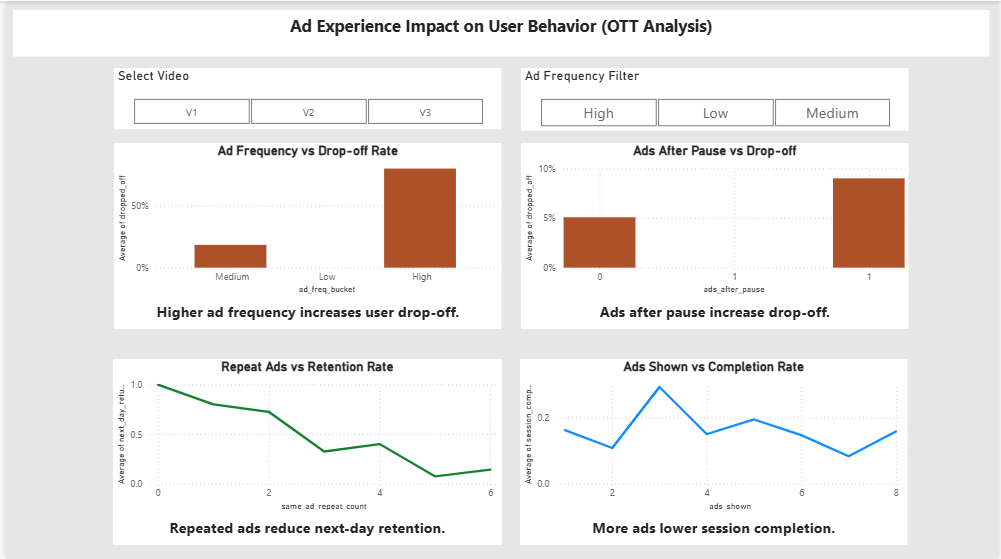

The page's visual inventory and layout, read from the dashboard file:
{"tool":"powerbi","page":{"name":"Page 1","canvas":[1280,720],"ordinal":0},"visuals":[{"type":"clusteredColumnChart","title":"Ad Frequency vs Drop-off Rate","fields":{"Category":["analysis.ad_freq_bucket"],"Y":["Avg(analysis.dropped_off)"]},"box":[138.9,182.8,500.3,199.8],"z":0},{"type":"lineChart","title":"Repeat Ads vs Retention Rate","fields":{"Category":["analysis.same_ad_repeat_count"],"Y":["Avg(analysis.next_day_return)"]},"box":[138.2,461.8,501.8,200],"z":1000},{"type":"columnChart","title":"Ads After Pause vs Drop-off","fields":{"Category":["analysis.ads_after_pause"],"Y":["Avg(analysis.dropped_off)"]},"box":[664.7,182.8,500.3,199.8],"z":2000},{"type":"lineChart","title":"Ads Shown vs Completion Rate","fields":{"Category":["analysis.ads_shown"],"Y":["Avg(analysis.session_completed)"]},"box":[663.6,461.8,500,200],"z":3000},{"type":"slicer","title":"Select Video","fields":{"Values":["analysis.video_id"]},"box":[138.9,86.5,500.3,79.4],"z":4000},{"type":"slicer","title":"Ad Frequency Filter","fields":{"Values":["analysis.ad_freq_bucket"]},"box":[664.7,86.5,500.3,80.8],"z":5000},{"type":"textbox","box":[8.5,11.3,1260,59.5],"z":5001},{"type":"textbox","box":[138.9,382.7,500.3,40],"z":5002},{"type":"textbox","box":[664.7,382.7,500.3,40],"z":5003},{"type":"textbox","box":[138.2,661.8,501.8,40],"z":5004},{"type":"textbox","box":[663.6,661.8,500,40],"z":5005}]}

Visuals, with their boxes in screenshot pixels (x1, y1, x2, y2), scaled from the page's 1280x720 canvas onto the 1001x559 screenshot:
"Ad Frequency vs Drop-off Rate" clusteredColumnChart: 109/142/500/297
"Repeat Ads vs Retention Rate" lineChart: 108/359/500/514
"Ads After Pause vs Drop-off" columnChart: 520/142/911/297
"Ads Shown vs Completion Rate" lineChart: 519/359/910/514
"Select Video" slicer: 109/67/500/129
"Ad Frequency Filter" slicer: 520/67/911/130
textbox: 7/9/992/55
textbox: 109/297/500/328
textbox: 520/297/911/328
textbox: 108/514/500/545
textbox: 519/514/910/545
